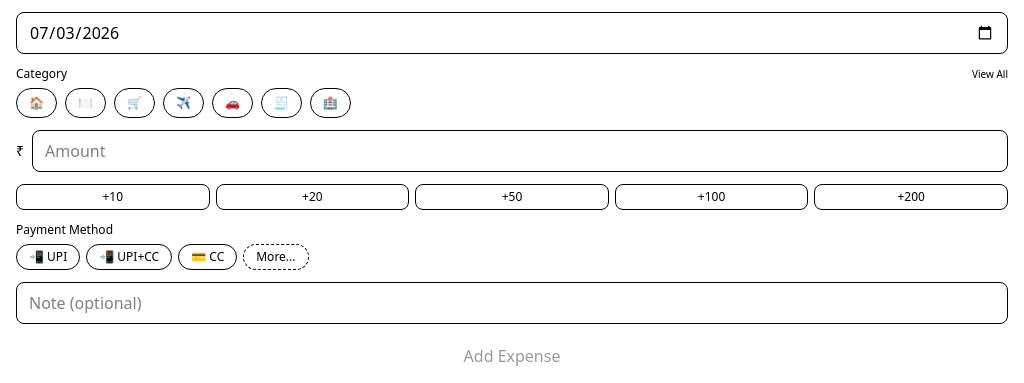
Test: AddExpense — amount presets › tapping a preset fills the amount input
The width and height of the screenshot is (1024, 383).
Expected: the number field with placeholder "Amount" is empty, [32,130,1008,172]
Click the button "+100".
click(712, 197)  # box [615,184,808,210]
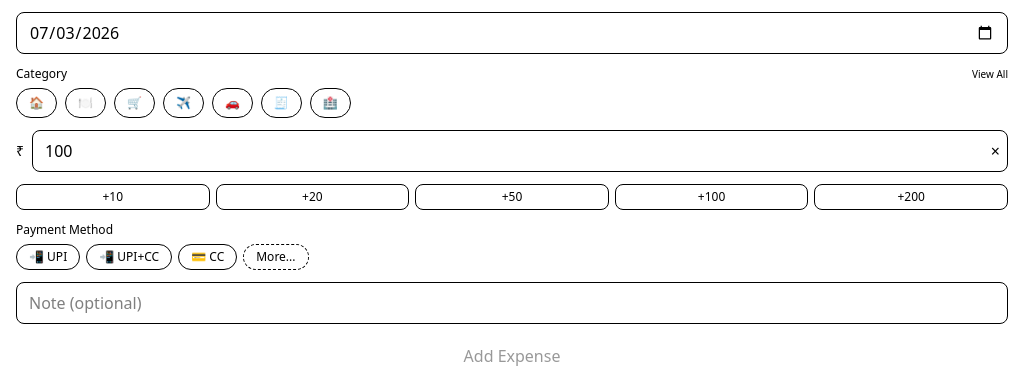
Expected: the number field with placeholder "Amount" holds "100", [32,130,1008,172]
